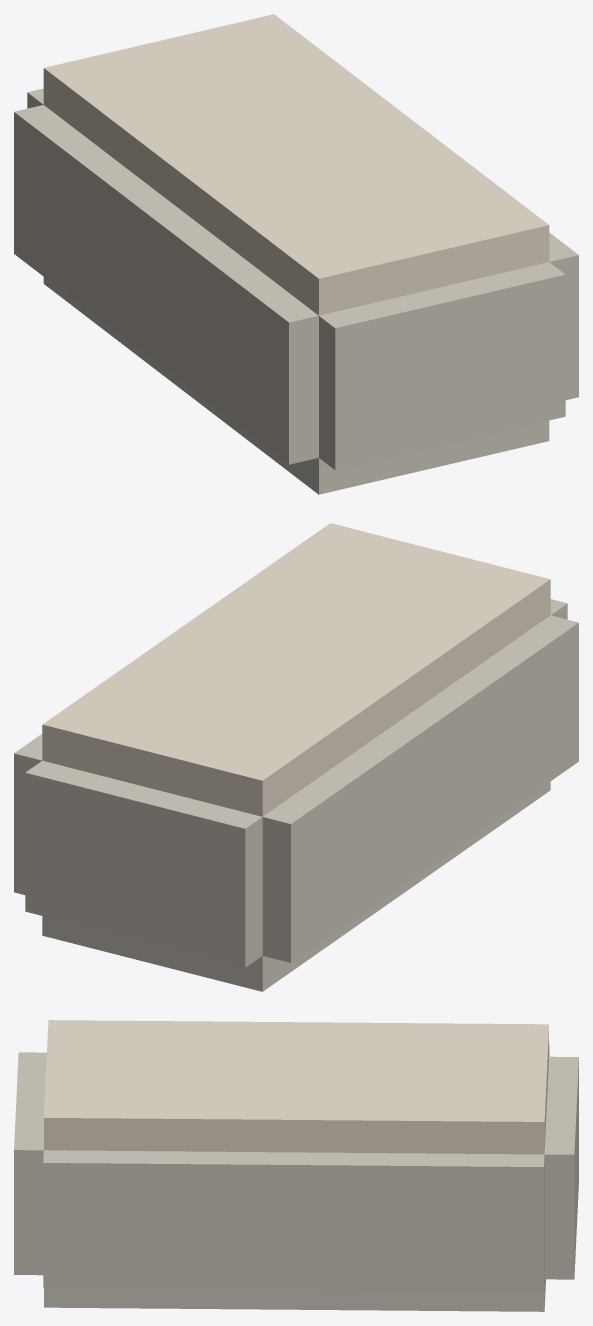
The picture shows the model from 3 angles, top to bottom: view 1: azimuth 30°, elevation 25°; view 2: azimuth 150°, elevation 25°; view 3: azimuth 270°, elevation 25°; orthographic projection. The views are drawn at different scales.
Parts seen in each view (by area): view 1: Ceiling, Wall_03, Wall_04, Floor, Wall_01; view 2: Ceiling, Wall_03, Wall_02, Floor, Wall_01; view 3: Wall_01, Ceiling, Floor, Wall_02, Wall_04.
Part boxes in pixels (x1=…): Ceiling: x1=43, y1=14, x2=549, y2=315; Wall_03: x1=14, y1=105, x2=318, y2=464; Wall_04: x1=319, y1=262, x2=565, y2=470; Floor: x1=43, y1=277, x2=549, y2=494; Wall_01: x1=549, y1=232, x2=578, y2=399; Ceiling: x1=42, y1=523, x2=550, y2=816; Wall_03: x1=262, y1=615, x2=578, y2=962; Wall_02: x1=25, y1=760, x2=262, y2=967; Floor: x1=42, y1=781, x2=550, y2=991; Wall_01: x1=14, y1=734, x2=42, y2=894; Wall_01: x1=43, y1=1150, x2=544, y2=1291; Ceiling: x1=44, y1=1020, x2=548, y2=1154; Floor: x1=44, y1=1279, x2=545, y2=1311; Wall_02: x1=544, y1=1056, x2=578, y2=1279; Wall_04: x1=14, y1=1052, x2=46, y2=1275.
Size of the model in its own units: 2.52 by 1.75 by 4.73.
